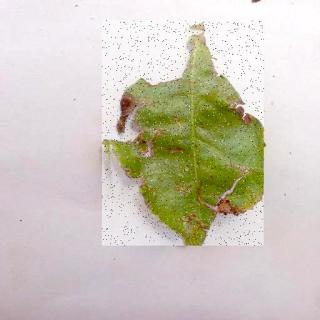Algal Leaf: (103, 21, 265, 247)
